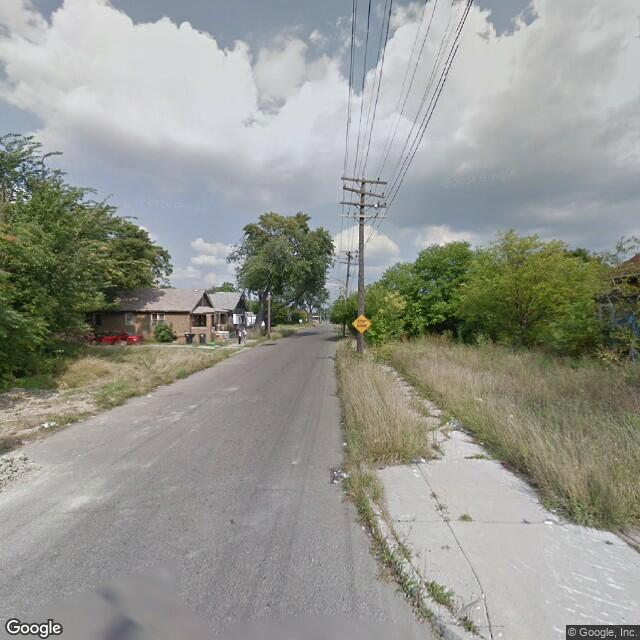litter: (330, 471, 349, 485), (543, 515, 553, 525), (418, 458, 427, 465), (342, 441, 347, 450), (145, 392, 152, 398)
